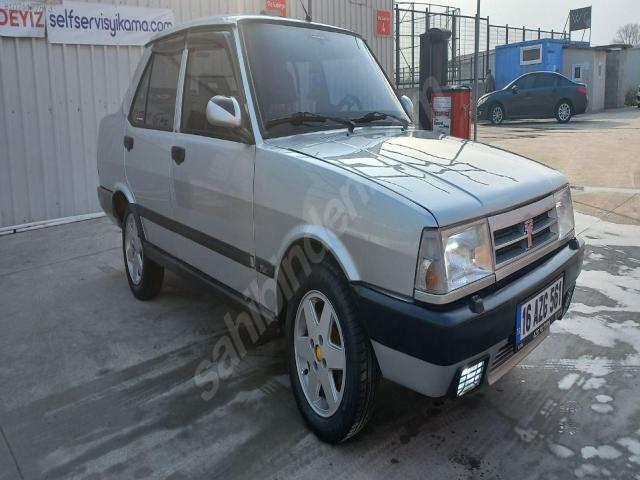plaka: (516, 278, 562, 343)
